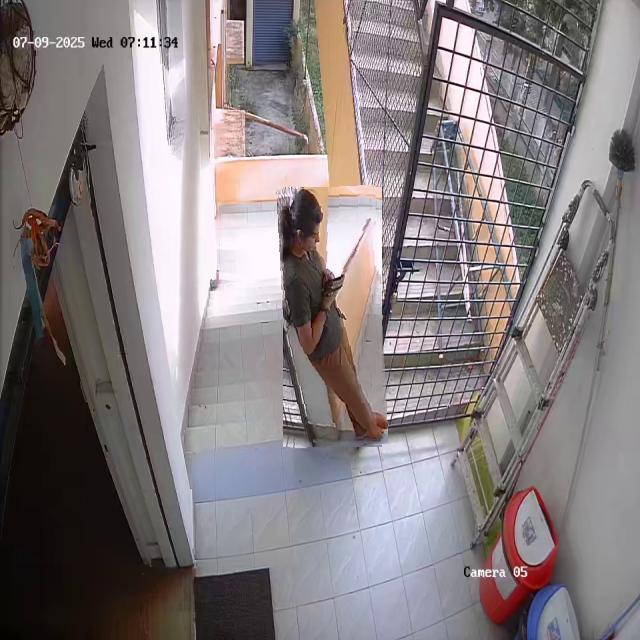person: (280, 186, 385, 448)
